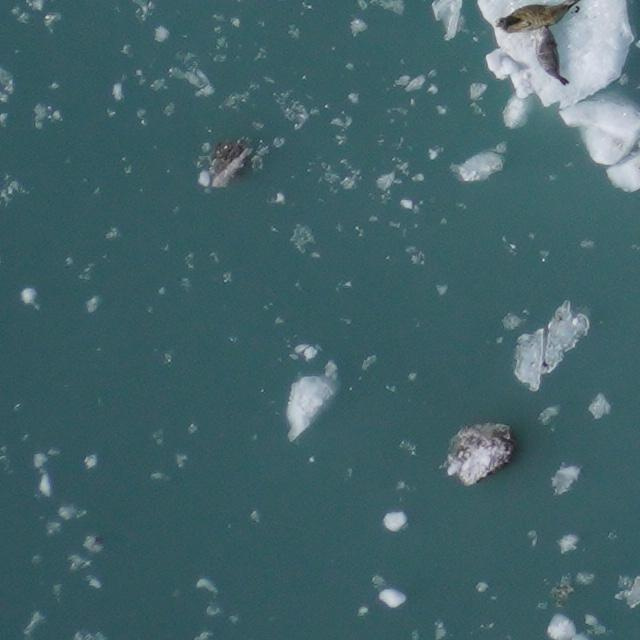seal: (528, 23, 572, 91)
